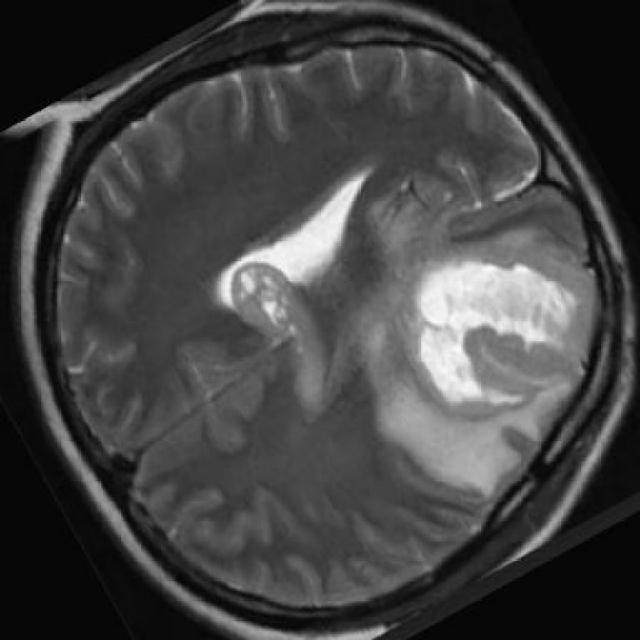Brain-Tumor: (354, 242, 611, 481)
